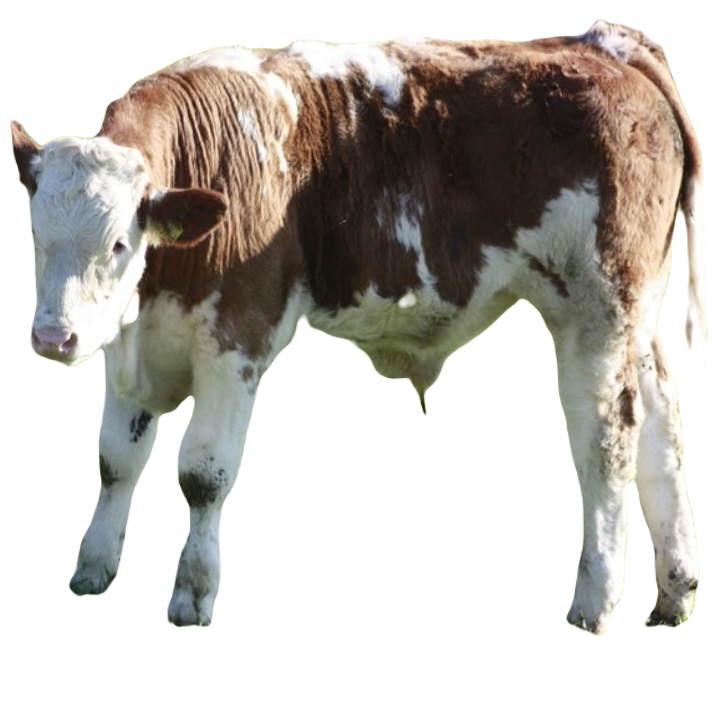Cow: (9, 18, 712, 633)
